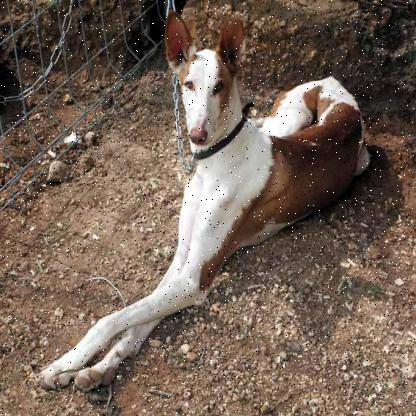dog: (60, 9, 361, 394)
